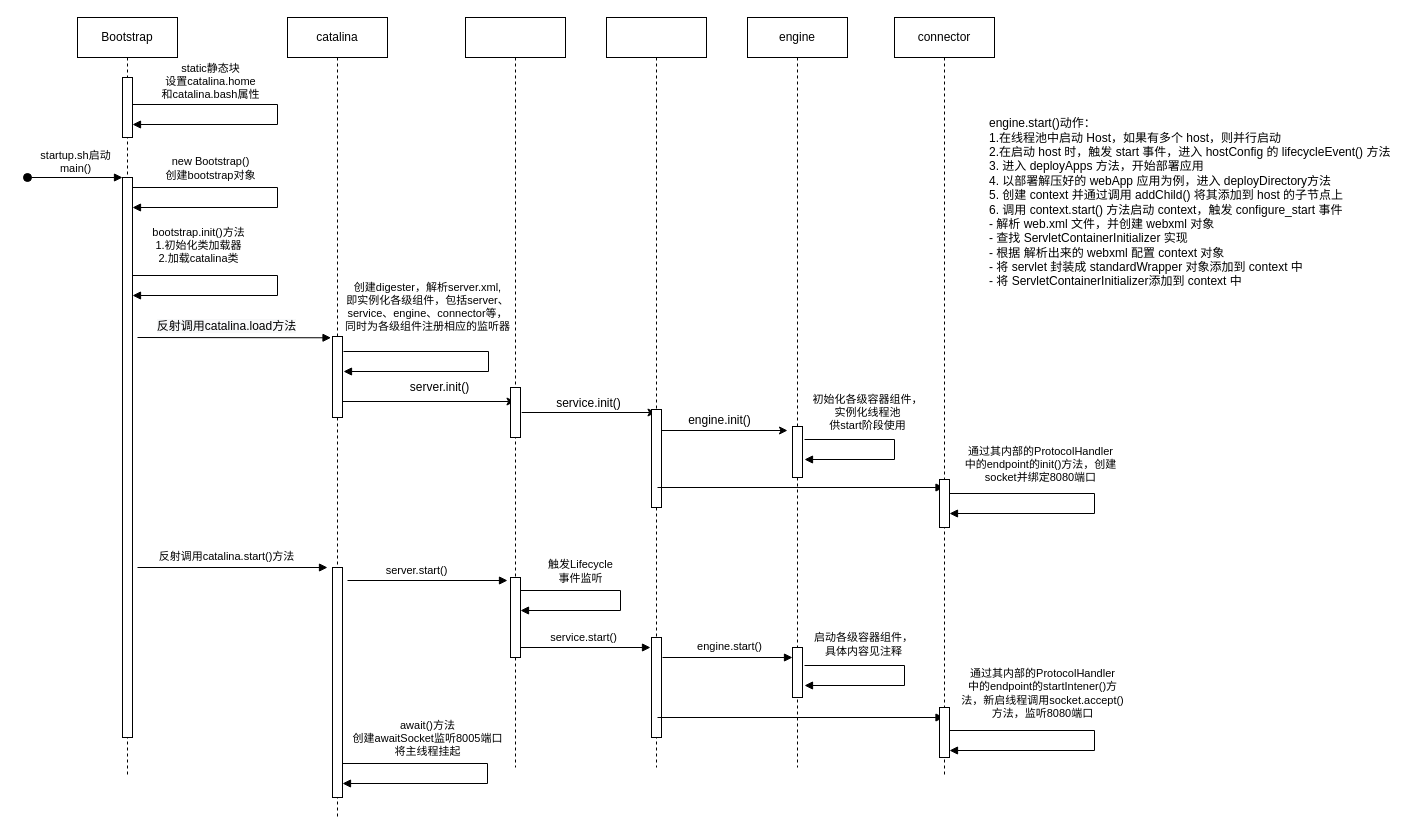
The diagram is 1425 pixels wide and 835 high, and some of its shapes have lost their labels. The shapes that lost their labels are listed below. From the top down, each one's centre as x and y in pixels, then its label:
At point (515, 392): "server".
At point (656, 392): "service".
